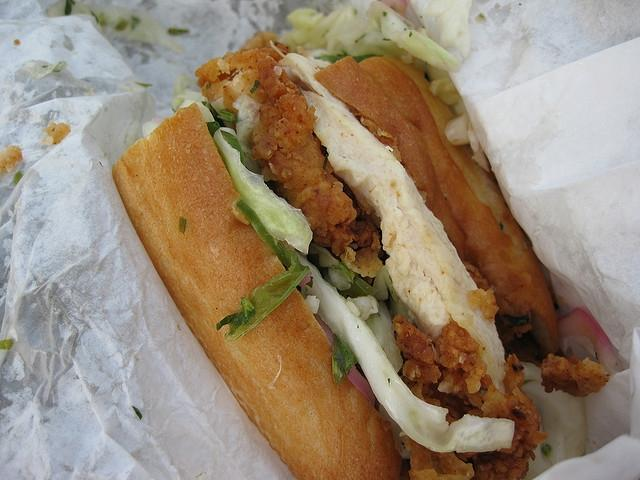lettuce: (215, 199, 308, 342), (213, 128, 313, 255), (368, 0, 458, 68), (326, 8, 372, 46), (332, 334, 358, 384), (314, 54, 382, 63)
